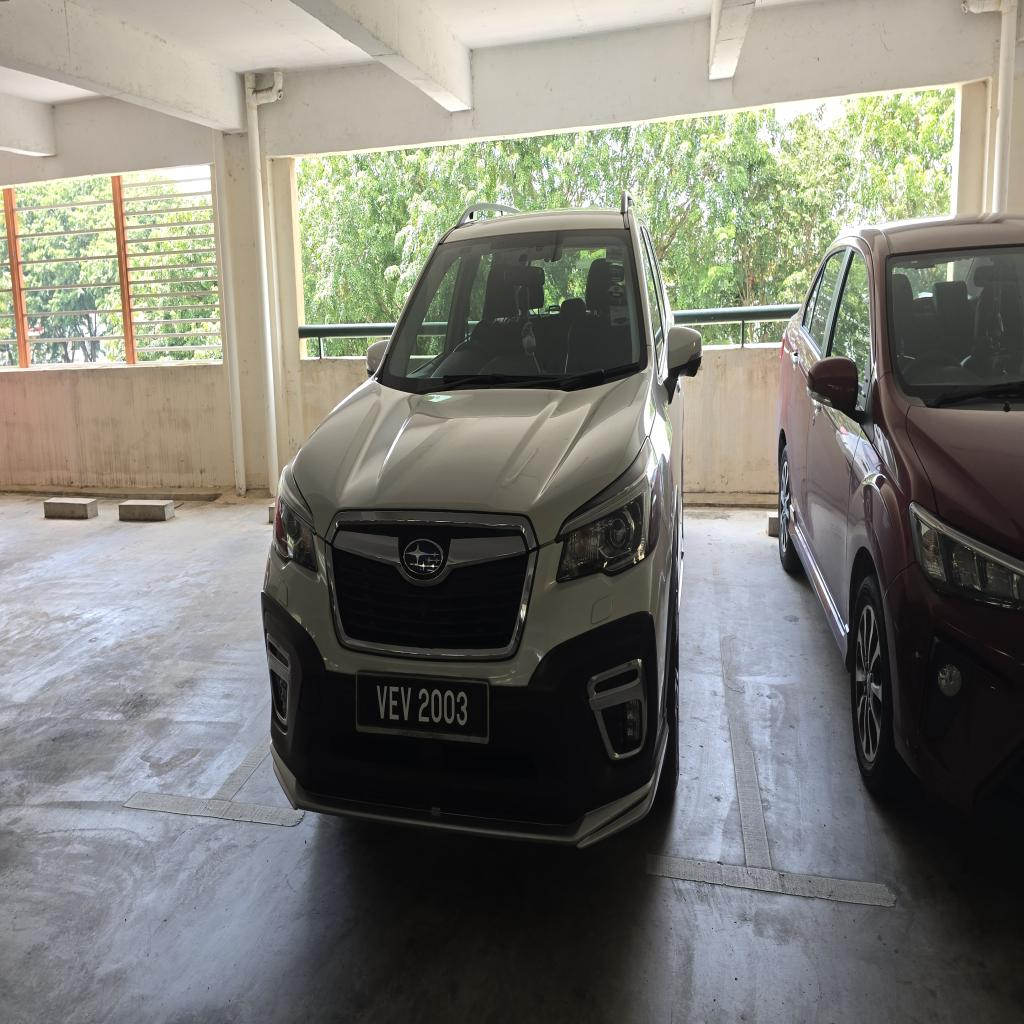car: (262, 195, 700, 844)
car plate: (358, 675, 488, 742)
